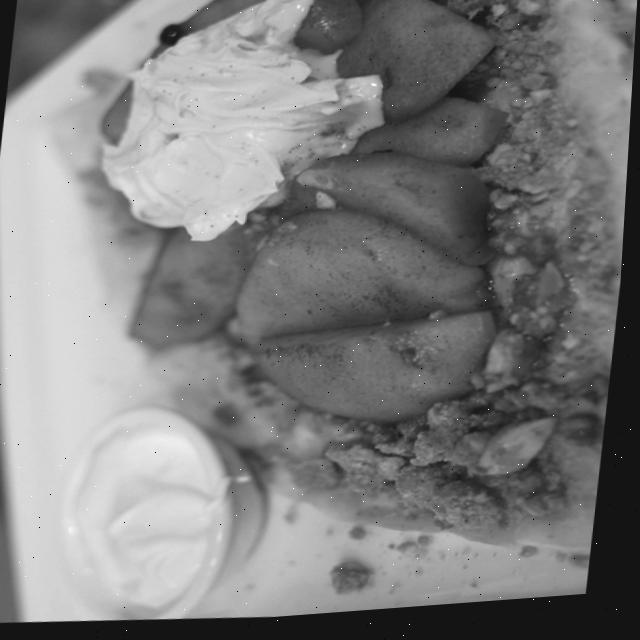蛋糕甜品: (11, 0, 640, 615)
